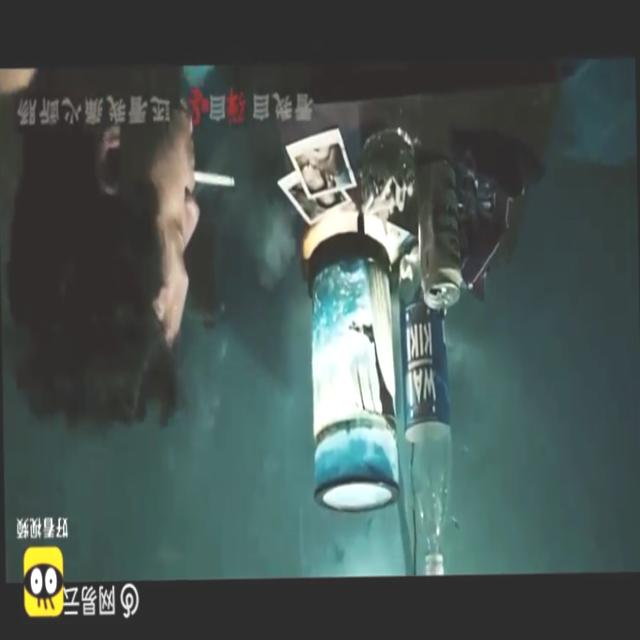cigarette: (188, 162, 236, 194)
